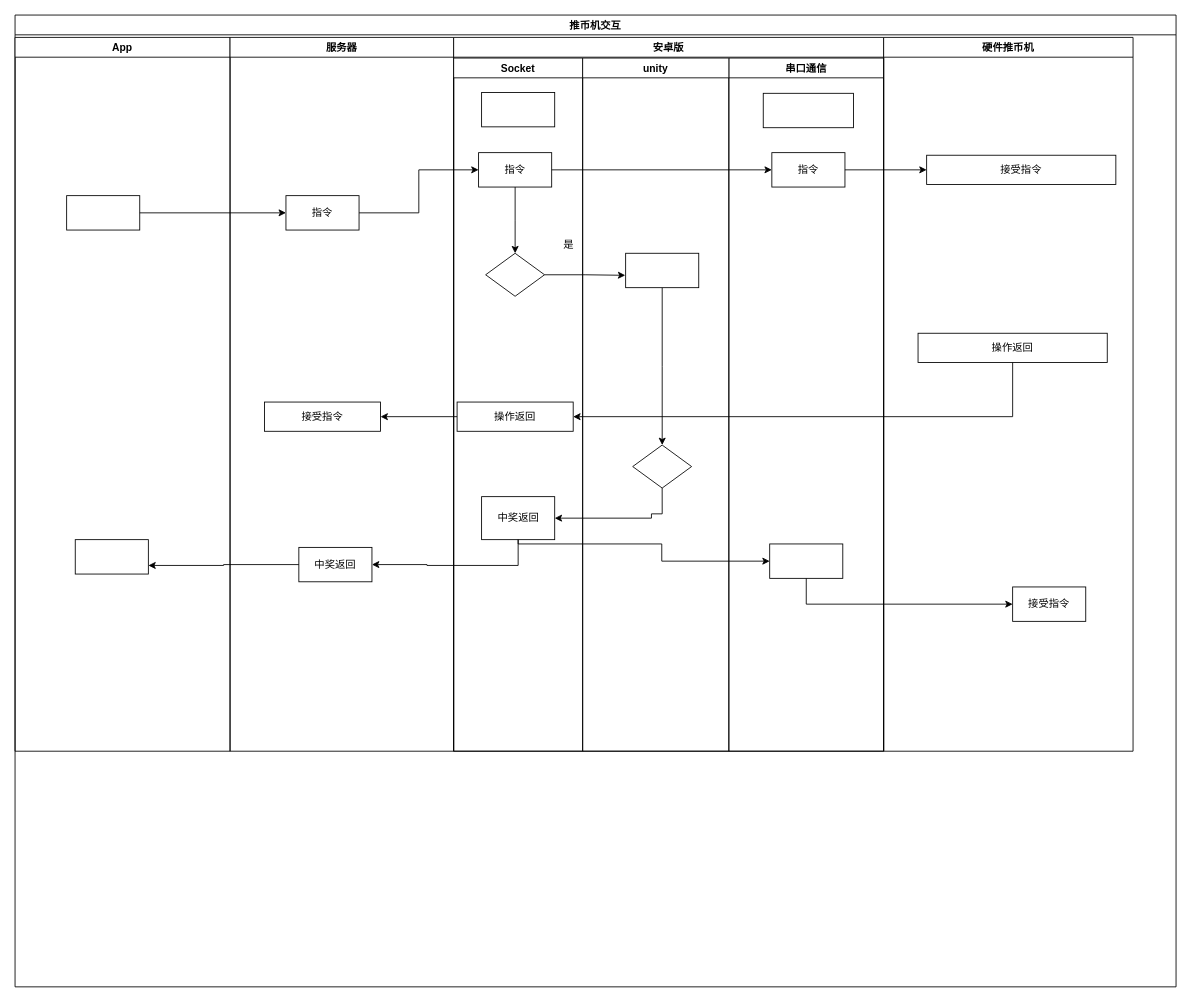
This 1191x1002 diagram has some shape labels left out. Each missing label, with the centre of its shape:
"Sping" goes at point (662, 270).
"中奖指令" goes at point (806, 560).
"中奖消息" goes at point (111, 556).
"打开串口通信" goes at point (808, 110).
"投币" goes at point (103, 212).
"是否中奖" goes at point (662, 466).
"是否投币" goes at point (515, 274).
"连接服务器" goes at point (518, 109).
